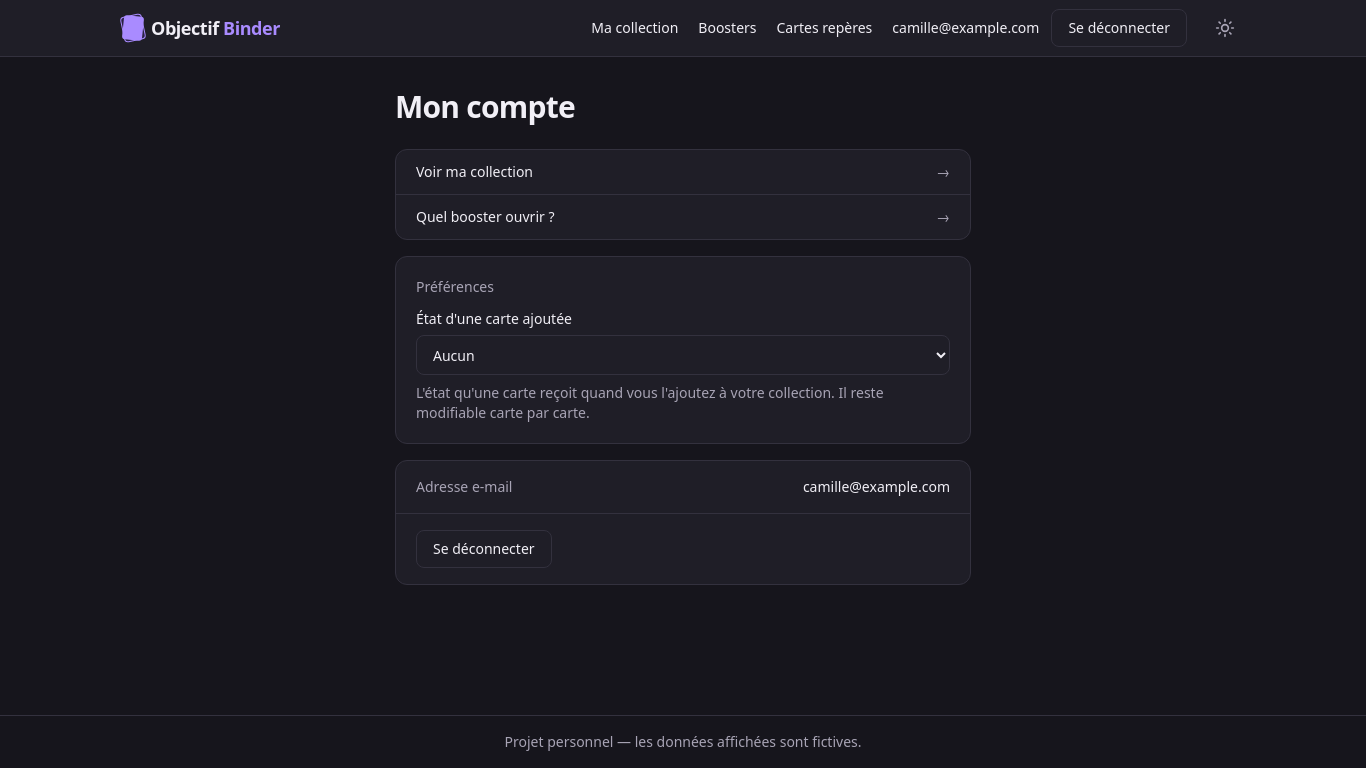
Test: account page (signed-in users only) › leaves for the sign-in screen when the user signs out
The width and height of the screenshot is (1366, 768).
Click the button "Se déconnecter" below "Adresse e-mail".
click(484, 549)  # box [416,530,552,568]
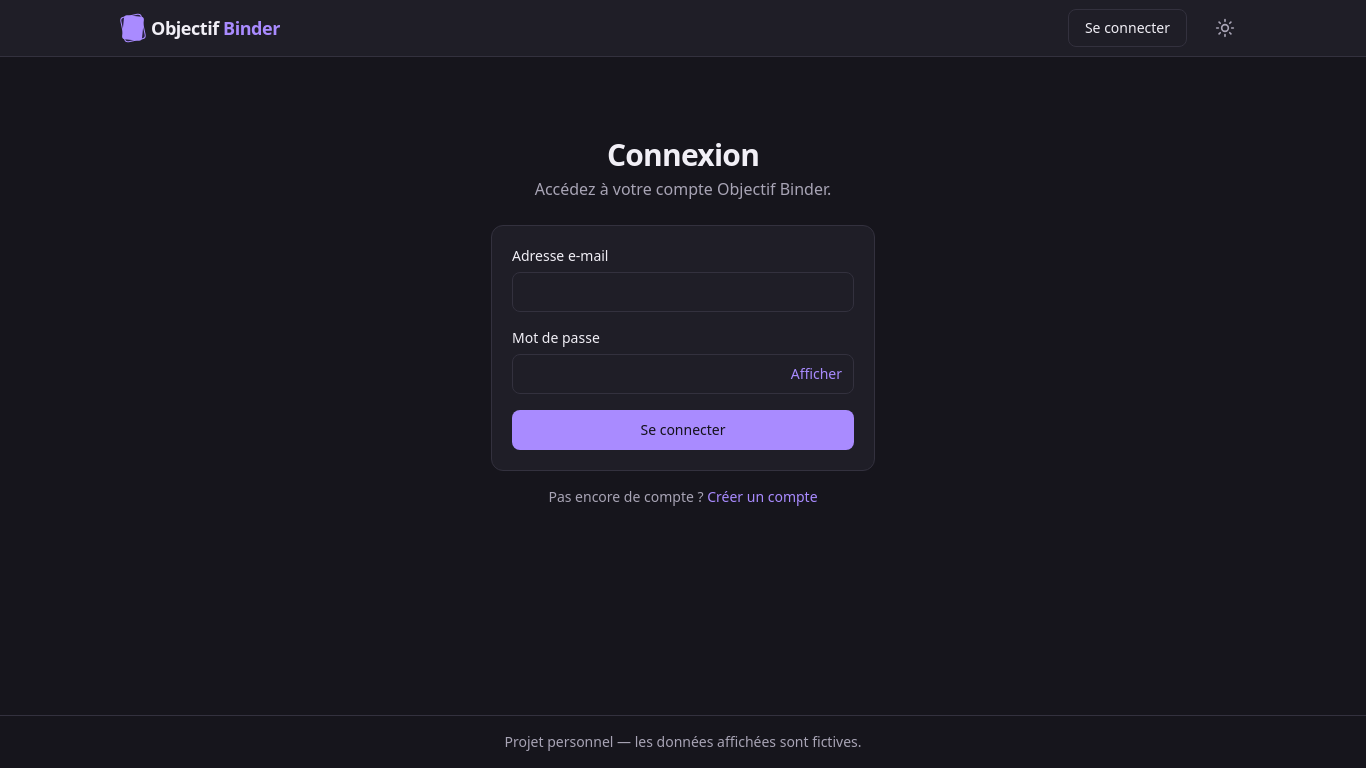
Result: the heading "Connexion" is shown at [607,134,759,175]
Result: the link "camille@example.com" is gone
